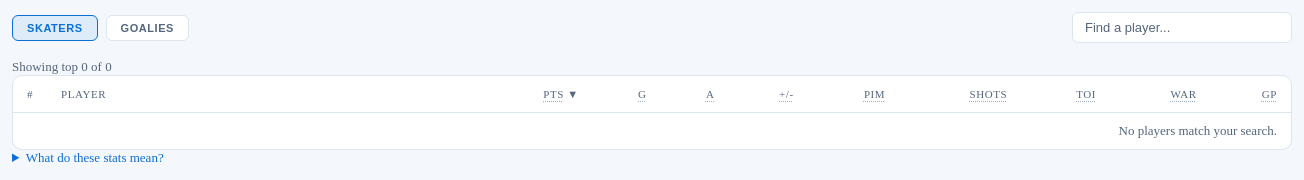
LeaderboardPanel › formats GAA to 2 decimals and SV% to 3, and renders a missing stat as an em dash
Click the button "GOALIES" at coordinates (147, 28), box [106,14,189,40]
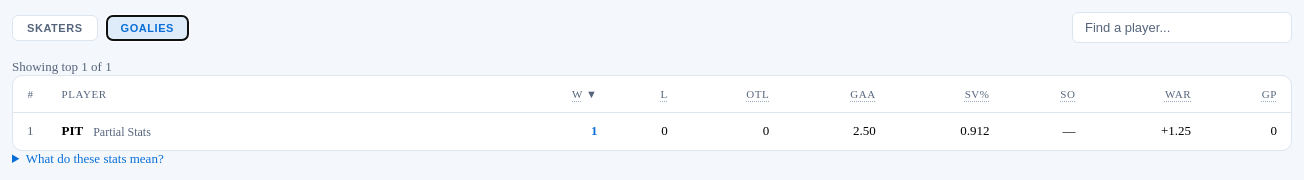
Expected: the text "2.50" is shown, [783,112,890,150]
Expected: the text "0.912" is shown, [890,112,1004,150]
Expected: the text "+1.25" is shown, [1090,112,1205,150]
